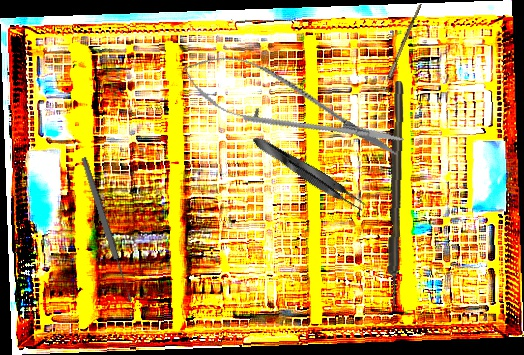Hook Surgical: (386, 80, 405, 308)
Micro Scissor: (173, 39, 412, 176)
Surgical Spoon: (79, 156, 135, 304), (376, 2, 422, 107)
Tissue Forceps: (248, 130, 370, 216)
